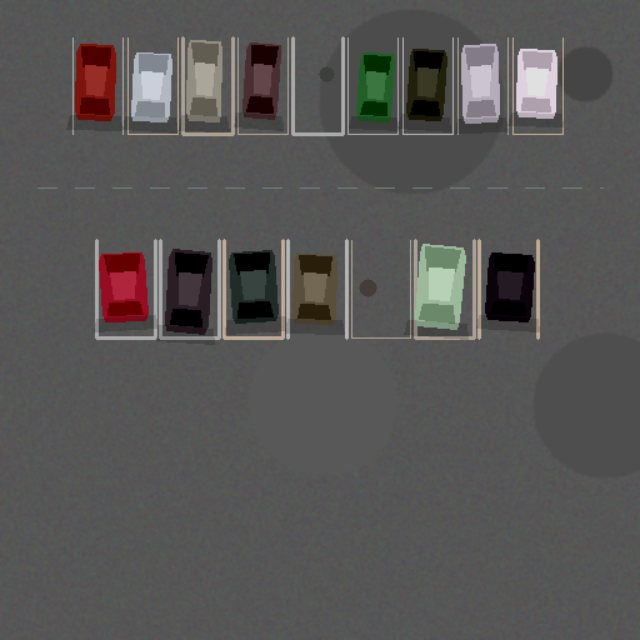space-empty: (351, 240, 410, 338), (293, 37, 343, 134)
space-occupied: (96, 240, 155, 338), (160, 240, 219, 338), (224, 240, 283, 338), (287, 240, 346, 338), (415, 240, 474, 338), (479, 240, 537, 338), (73, 37, 123, 134), (127, 37, 177, 134), (183, 37, 233, 134), (237, 37, 287, 134), (347, 37, 397, 134), (403, 37, 453, 134), (457, 37, 507, 134), (513, 37, 563, 134)
